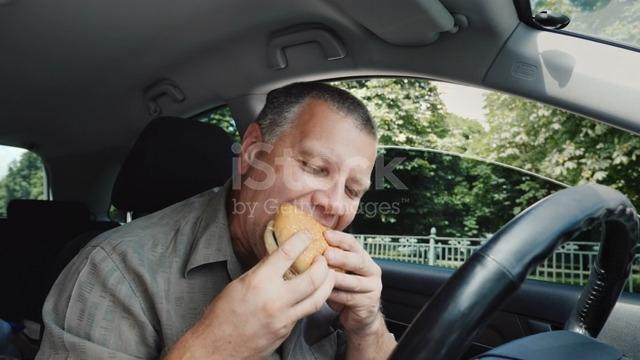Eating: (203, 54, 406, 301)
